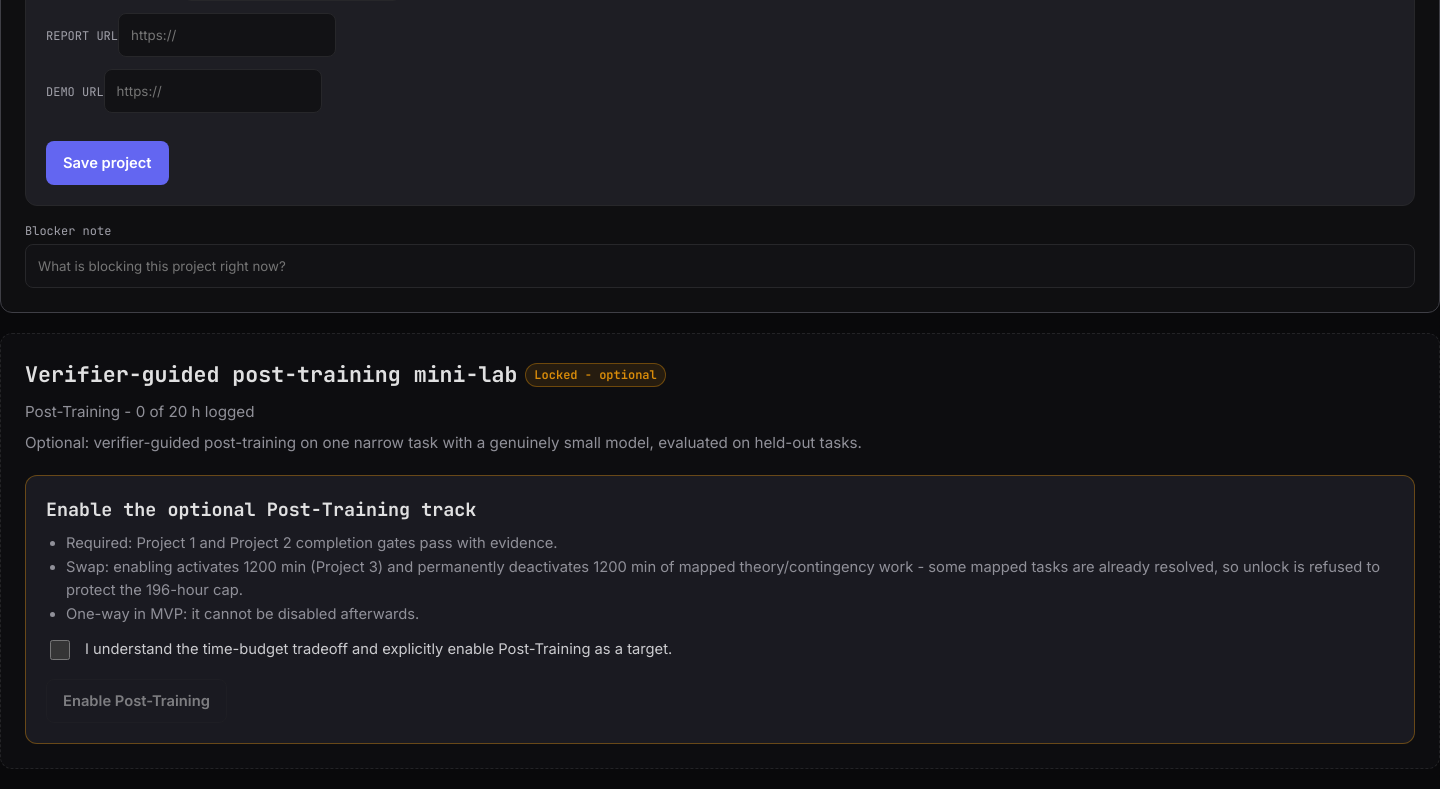
Test: ProjectsView › shows the enabled state after a successful unlock
This screenshot has width=1440, height=789.
(page scrolled)
expect the heading "Enable the optional Post-Training track" is shown: met, box [46, 497, 476, 522]
What coordinates should you click on to do the following:
click the checkbox labelled "explicitly enable Post-Training"
I would click on:
 (60, 650)
Its box is [50, 640, 70, 660].
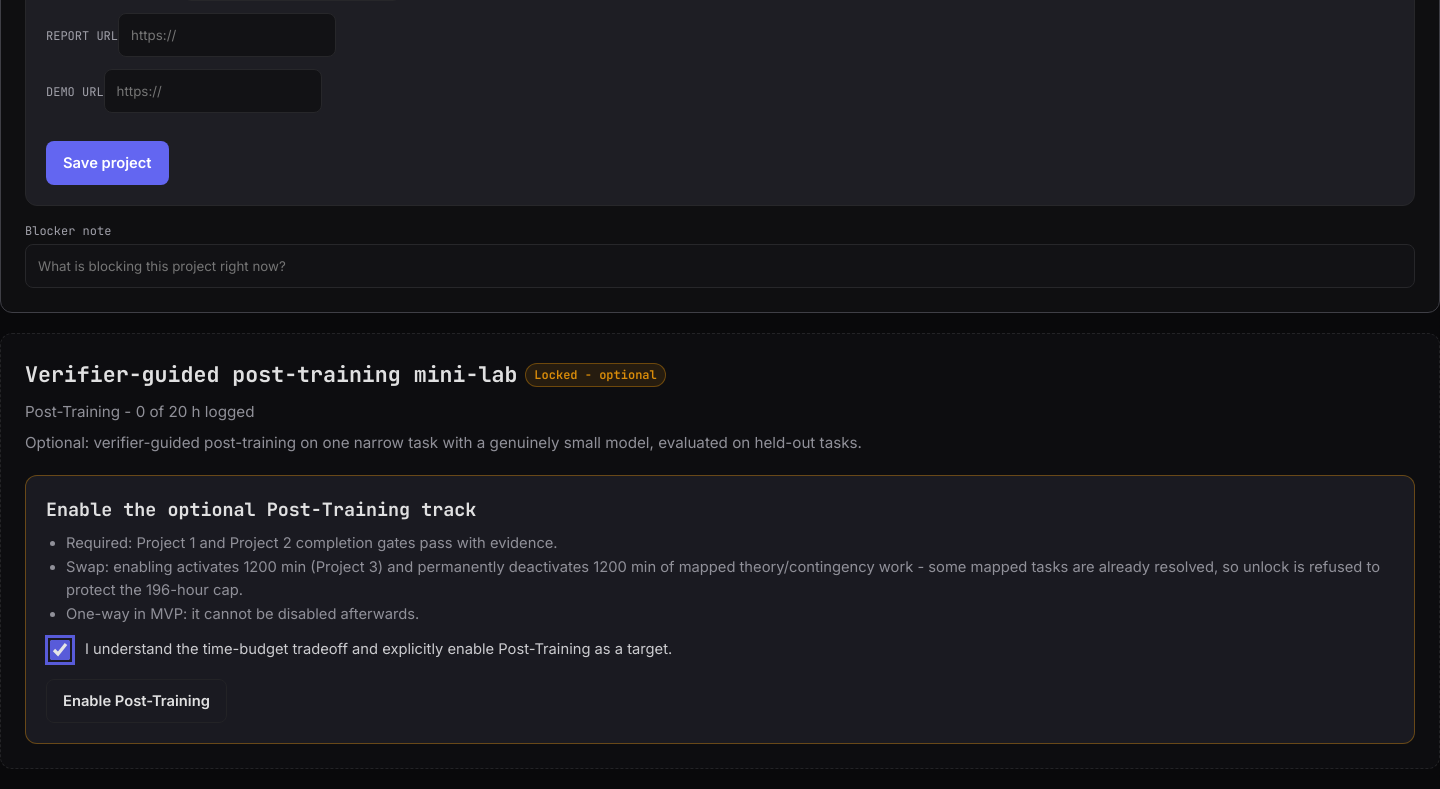
What coordinates should you click on to do the following:
click the button "Enable Post-Training"
I would click on:
 (136, 702)
Its box is [46, 680, 227, 724].
(page scrolled)
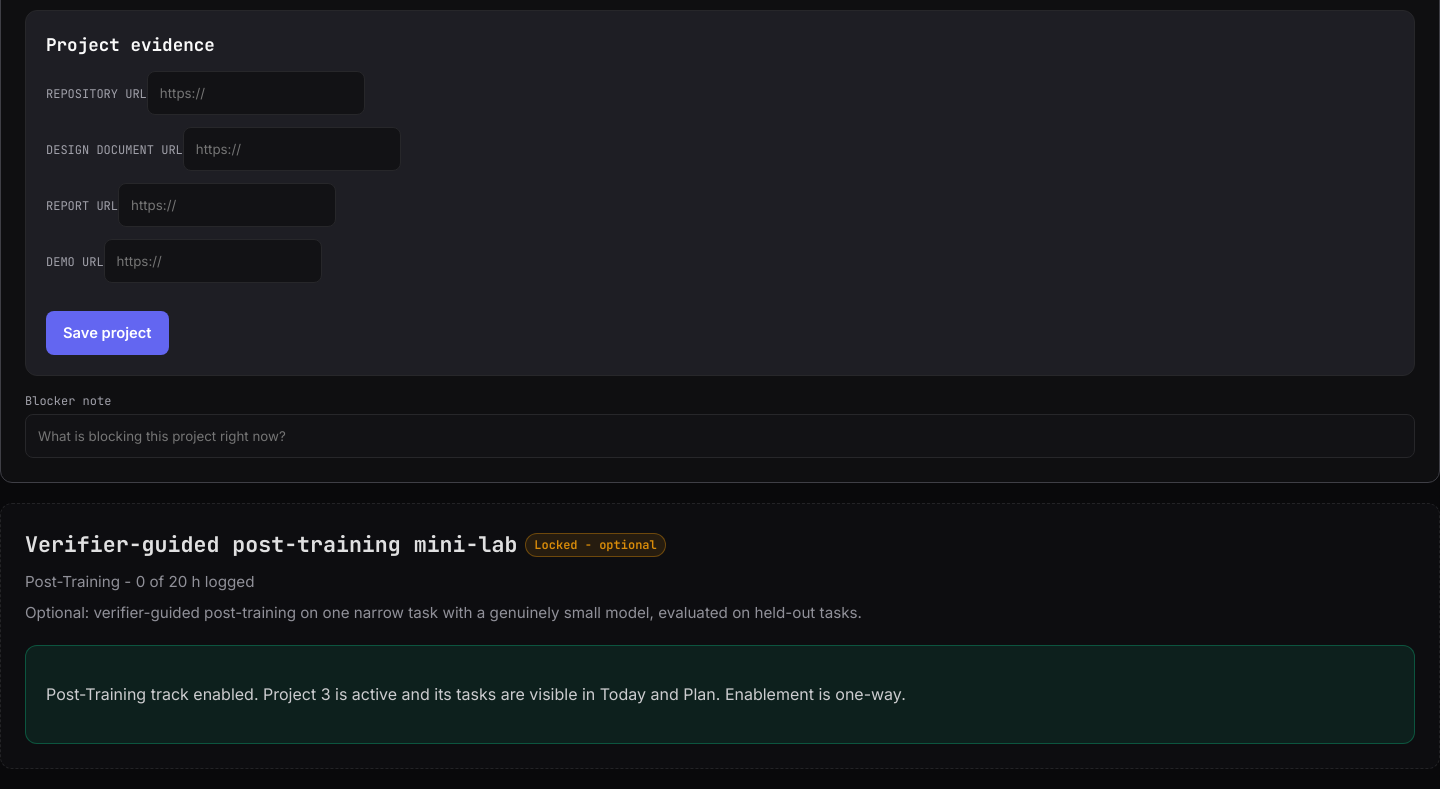
expect the text "Post-Training track enabled" is shown: met, box [46, 684, 906, 704]
